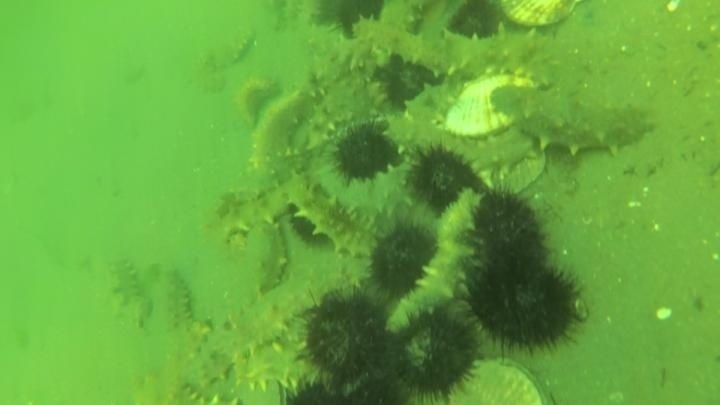echinus: (464, 259, 587, 358), (297, 285, 398, 389), (388, 306, 484, 403), (466, 184, 551, 284), (364, 218, 441, 301), (405, 142, 489, 216), (328, 120, 402, 186), (375, 57, 446, 113), (313, 1, 389, 40), (451, 1, 514, 44), (270, 372, 348, 404), (349, 380, 416, 405)
holothurian: (342, 13, 557, 87), (383, 187, 489, 335), (491, 81, 657, 160), (183, 296, 293, 385), (285, 180, 378, 261), (310, 157, 419, 225), (299, 71, 385, 155), (210, 171, 307, 245), (235, 335, 330, 396), (246, 85, 310, 175), (302, 22, 389, 80), (391, 81, 460, 154), (106, 254, 152, 330), (248, 220, 292, 298), (151, 372, 242, 405), (163, 266, 202, 340), (200, 25, 257, 74), (376, 1, 428, 38)
scallop: (441, 71, 541, 143), (449, 357, 549, 404), (495, 1, 585, 35), (489, 150, 550, 196)
starfish: (230, 72, 285, 131)
